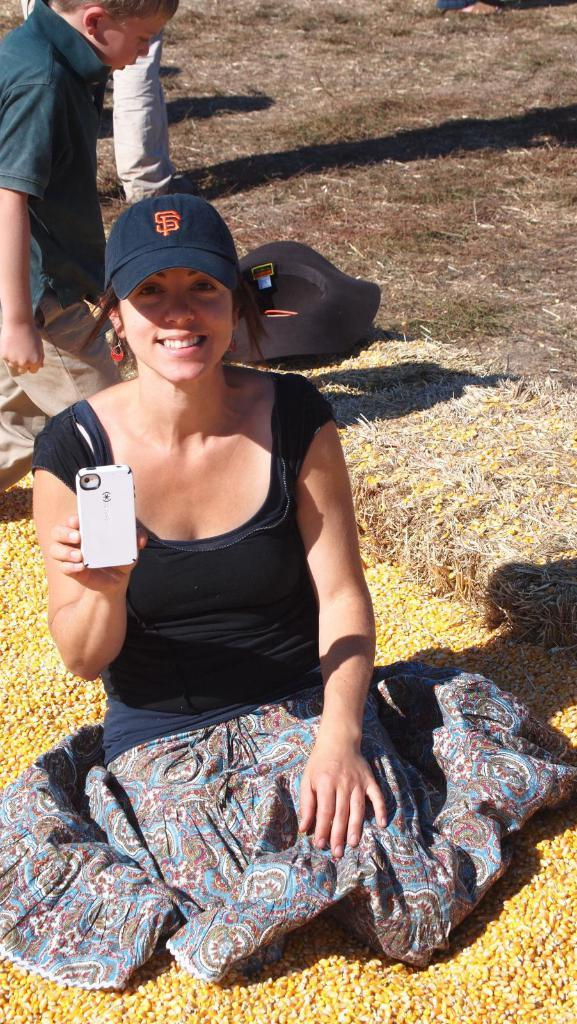Hat: (102, 194, 242, 291)
